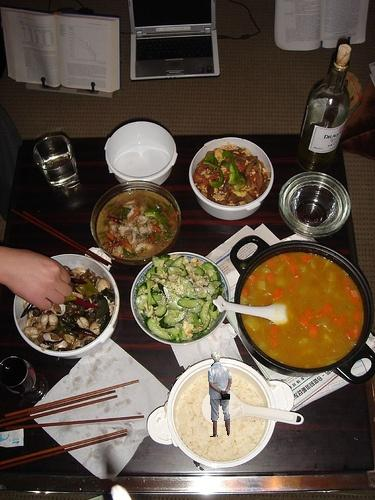tampered: (209, 353, 232, 437)
